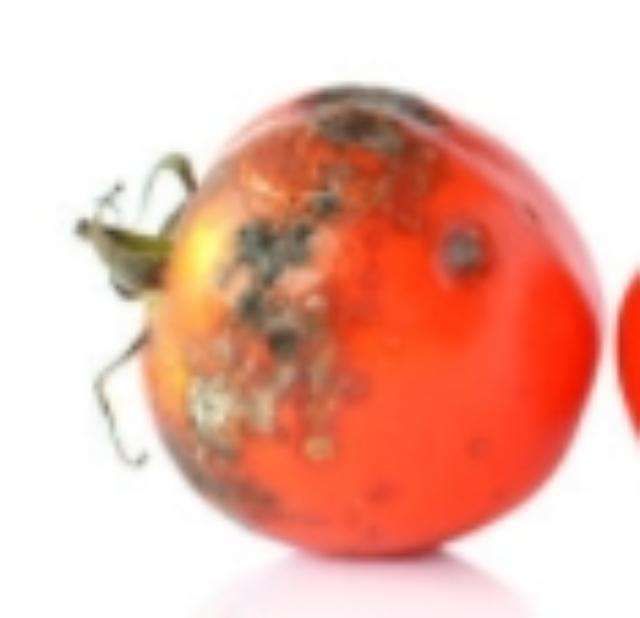defect: (73, 77, 605, 564)
